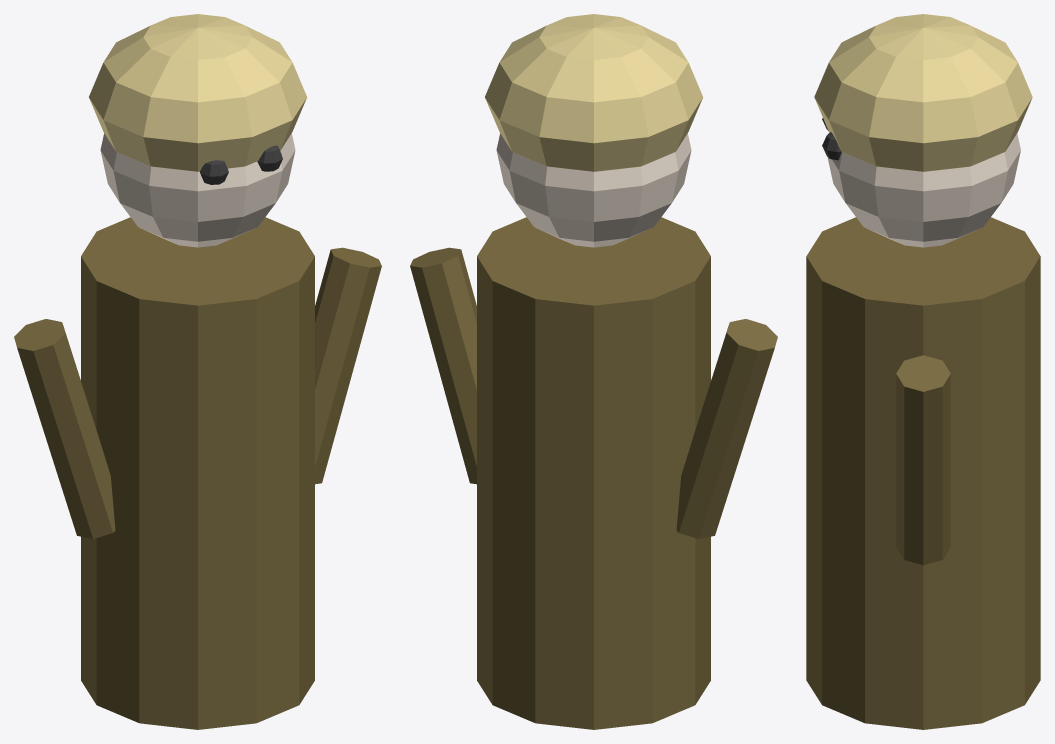
File: hero_bach.glb
3 views of the same model, side by side, from view 1: azimuth 30°, elevation 25°; view 2: azimuth 150°, elevation 25°; view 3: azimuth 270°, elevation 25° (orthographic).
Visible parts, largest first — view 1: hero_bach_Body, hero_bach_Wig, hero_bach_Head, hero_bach_Arm, hero_bach_Arm.001; view 2: hero_bach_Body, hero_bach_Wig, hero_bach_Head, hero_bach_Arm, hero_bach_Arm.001; view 3: hero_bach_Body, hero_bach_Wig, hero_bach_Head, hero_bach_Arm.001.
Part boxes in pixels (x1,y1,x2,y2): hero_bach_Body: (81, 217, 314, 729); hero_bach_Wig: (89, 14, 306, 171); hero_bach_Head: (100, 133, 295, 247); hero_bach_Arm: (14, 319, 115, 538); hero_bach_Arm.001: (315, 247, 381, 484); hero_bach_Body: (477, 217, 710, 729); hero_bach_Wig: (485, 14, 702, 171); hero_bach_Head: (496, 133, 691, 247); hero_bach_Arm: (676, 319, 777, 538); hero_bach_Arm.001: (410, 247, 476, 484); hero_bach_Body: (806, 217, 1040, 729); hero_bach_Wig: (814, 14, 1032, 171); hero_bach_Head: (827, 133, 1020, 247); hero_bach_Arm.001: (896, 355, 950, 565).
Size of the model in its own units: 1.07 by 1.85 by 0.6.
